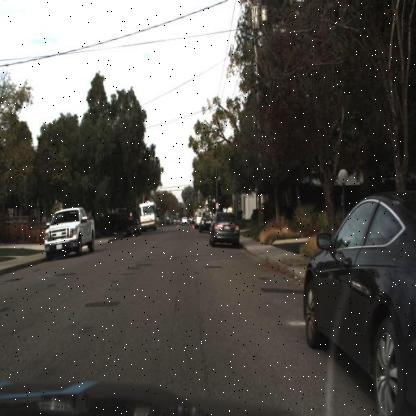car: (302, 188, 415, 415), (41, 207, 95, 256), (208, 210, 240, 246), (123, 211, 143, 236)
truck: (138, 197, 158, 233)
